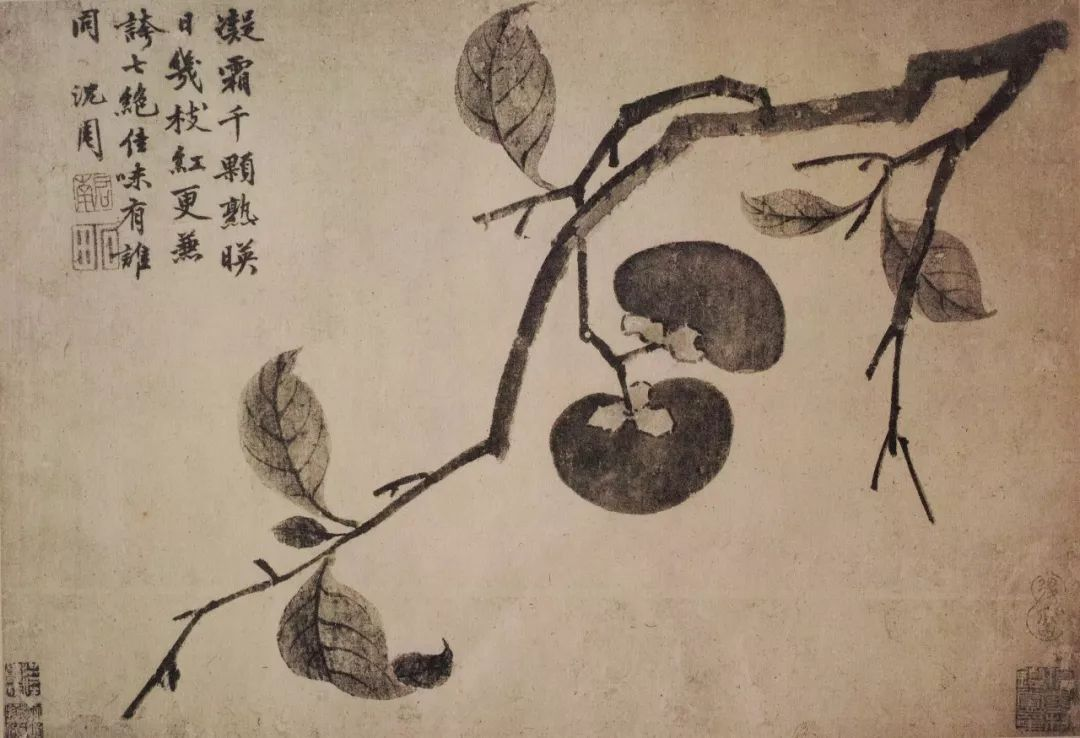flower: (563, 394, 738, 512), (625, 256, 783, 370)
tree: (208, 458, 500, 603), (507, 103, 764, 218), (471, 229, 585, 450), (710, 23, 1080, 86), (899, 139, 954, 478), (464, 13, 551, 181), (244, 365, 329, 519), (119, 612, 212, 718), (293, 575, 363, 679), (753, 189, 886, 228), (954, 89, 1020, 139)
